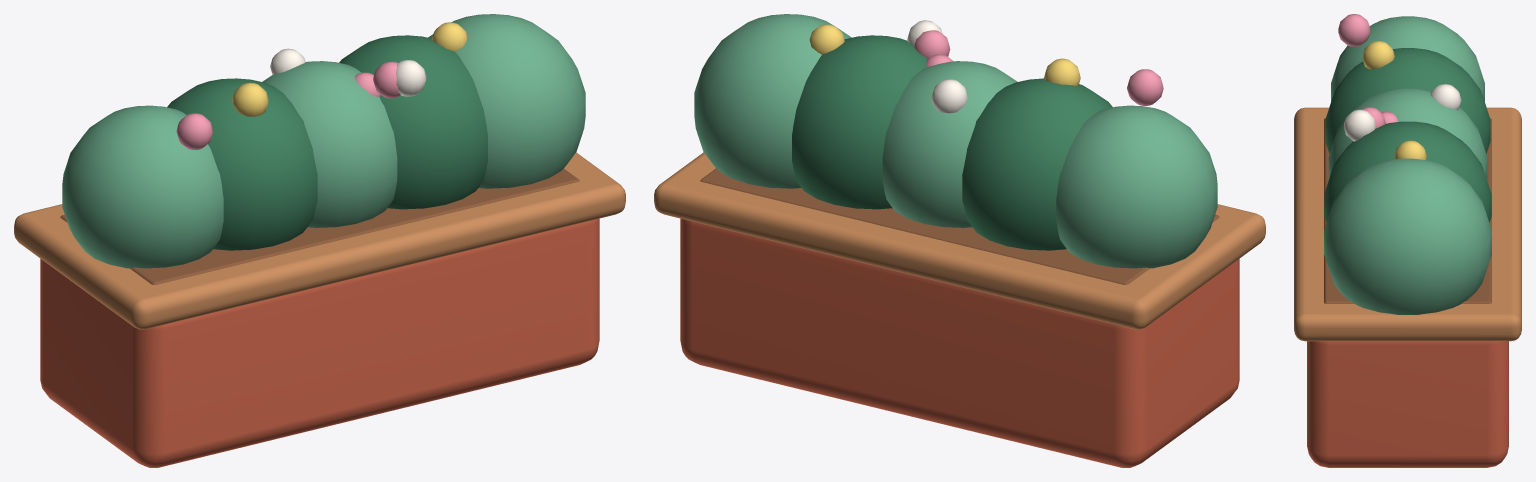
The model's file is planter.glb.
The picture shows the model from 3 angles, left to right: view 1: azimuth 30°, elevation 25°; view 2: azimuth 150°, elevation 25°; view 3: azimuth 270°, elevation 25°; orthographic projection. The views are drawn at different scales.
Visible parts, largest first — view 1: planter; view 2: planter; view 3: planter.
Part boxes in pixels (x1,y1,x2,y2): planter: [14, 14, 625, 467]; planter: [654, 14, 1265, 467]; planter: [1294, 14, 1521, 467].
Bounding box in the file's own units: 1.4 × 0.8848 × 0.6199.
1 material, 1 textured.
